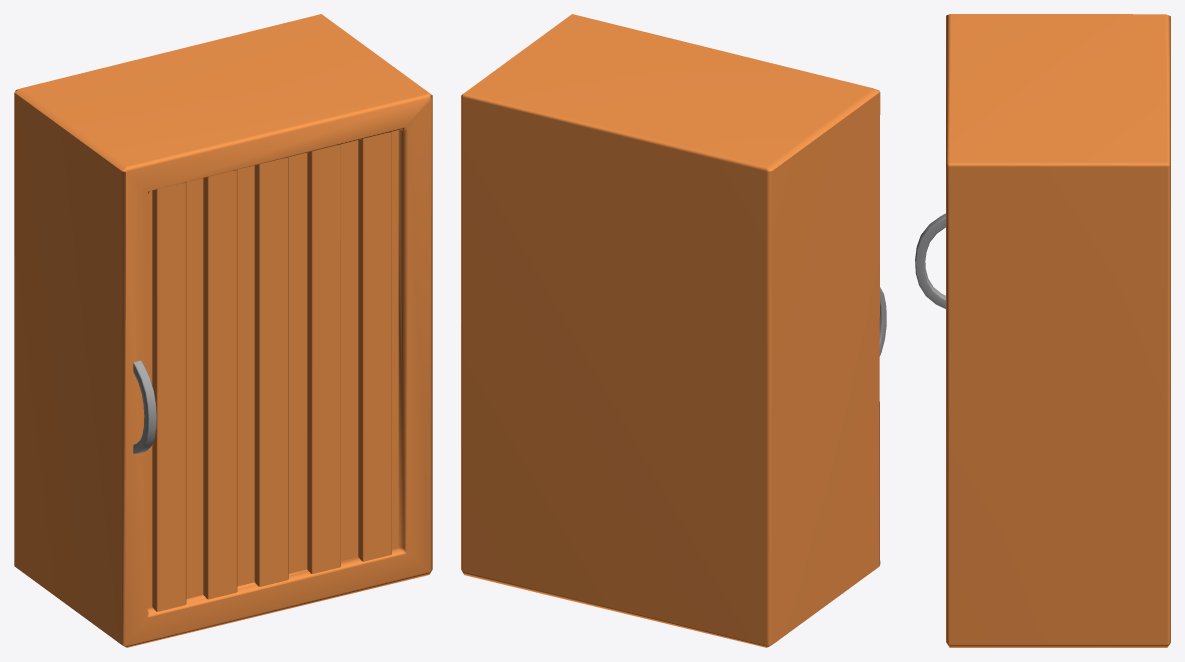
Rendered from Kitchen_Cabinet_4.glb.
3 renders of one model, left to right at view 1: azimuth 30°, elevation 25°; view 2: azimuth 150°, elevation 25°; view 3: azimuth 270°, elevation 25°, orthographic.
Visible parts, largest first — view 1: Kitchen_Cabinet_4; view 2: Kitchen_Cabinet_4; view 3: Kitchen_Cabinet_4.
Part boxes in pixels (x1,y1,x2,y2): Kitchen_Cabinet_4: [14, 14, 432, 647]; Kitchen_Cabinet_4: [461, 14, 886, 647]; Kitchen_Cabinet_4: [915, 14, 1170, 647].
Bounding box in the file's own units: 0.5477 × 0.8121 × 0.3876.
Materials: 1 (1 with a texture image).
